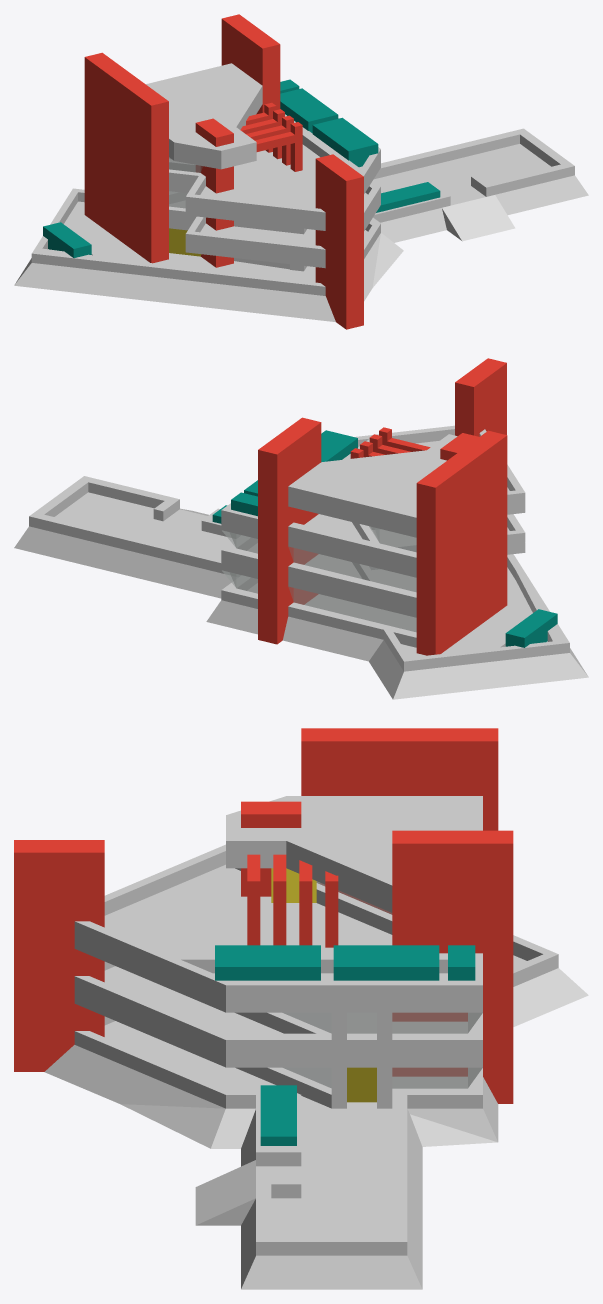
The model's file is scene_r6Ne0Tww1K.glb.
The picture shows the model from 3 angles, top to bottom: view 1: azimuth 30°, elevation 25°; view 2: azimuth 150°, elevation 25°; view 3: azimuth 270°, elevation 25°; orthographic projection. The views are drawn at different scales.
Visible parts, largest first — view 1: group493901725, group1660198816, group1253051626, group1564839478, group1337531568, group2138613685, group895724813, group968812, group1208982828, group143279132, group1277799146, group122800356 (+11 smaller); view 2: group493901725, group1660198816, group895724813, group1208982828, group1253051626, group1337531568, group1564839478, group968812, group2138613685, group1277799146, group649930543, group2105951944 (+12 smaller); view 3: group1564839478, group1660198816, group1208982828, group2138613685, group968812, group1253051626, group493901725, group1337531568, group1277799146, group143279132, group122800356, group649930543 (+15 smaller).
Boxes of the visible parts, x1,y1,x2,y2 form: group493901725: (84, 52, 168, 263); group1660198816: (373, 144, 588, 242); group1253051626: (146, 63, 262, 169); group1564839478: (185, 118, 380, 230); group1337531568: (186, 128, 574, 295); group2138613685: (315, 154, 363, 329); group895724813: (14, 201, 252, 304); group968812: (169, 200, 403, 322); group1208982828: (221, 14, 280, 114); group143279132: (280, 79, 378, 167); group1277799146: (185, 192, 380, 268); group122800356: (240, 102, 302, 171); group493901725: (416, 430, 507, 655); group1660198816: (14, 492, 232, 598); group895724813: (362, 573, 588, 699); group1208982828: (258, 417, 321, 644); group1253051626: (288, 434, 457, 537); group1337531568: (29, 476, 524, 579); group1564839478: (221, 425, 525, 569); group968812: (206, 567, 515, 661); group2138613685: (455, 358, 506, 436); group1277799146: (221, 527, 525, 609); group649930543: (221, 538, 416, 607); group2105951944: (221, 586, 416, 647); group1564839478: (74, 844, 482, 1012); group1660198816: (241, 1108, 422, 1289); group1208982828: (392, 830, 513, 1103); group2138613685: (14, 840, 104, 1071); group968812: (44, 1021, 498, 1148); group1253051626: (226, 796, 482, 912); group493901725: (301, 728, 498, 914); group1337531568: (74, 1016, 407, 1255); group1277799146: (74, 966, 482, 1067); group143279132: (215, 945, 475, 980); group122800356: (247, 854, 338, 947); group649930543: (235, 1012, 482, 1053).
Bounding box in the file's own units: 0.59 × 0.19 × 0.38.
